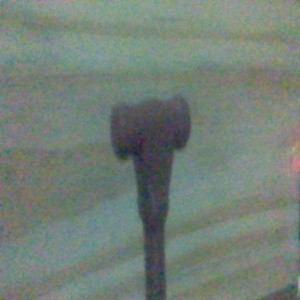palu: (109, 94, 192, 300)
